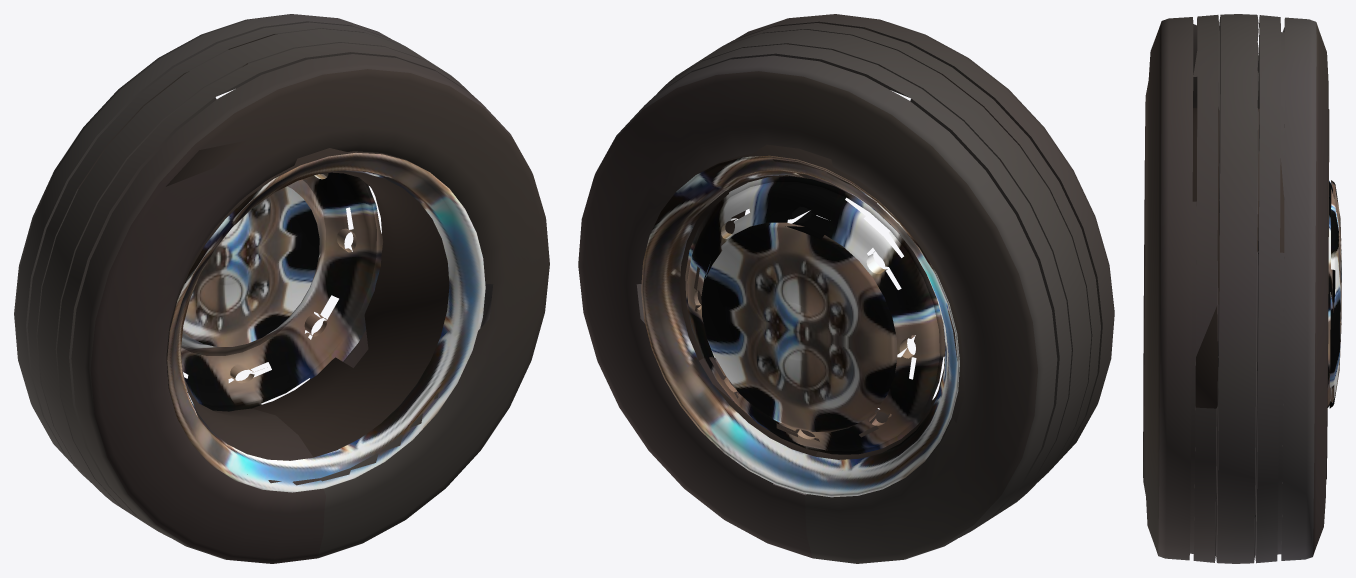
The model's file is llanta.obj.
3 views of the same model, side by side, from view 1: azimuth 30°, elevation 25°; view 2: azimuth 150°, elevation 25°; view 3: azimuth 270°, elevation 25° (orthographic).
Visible parts, largest first — view 1: llanta.001_Kolesa; view 2: llanta.001_Kolesa; view 3: llanta.001_Kolesa.
Part boxes in pixels (x1,y1,x2,y2): llanta.001_Kolesa: [14, 14, 549, 563]; llanta.001_Kolesa: [578, 14, 1114, 563]; llanta.001_Kolesa: [1143, 14, 1341, 563].
Size of the model in its own units: 0.538 by 0.538 by 0.1941.
